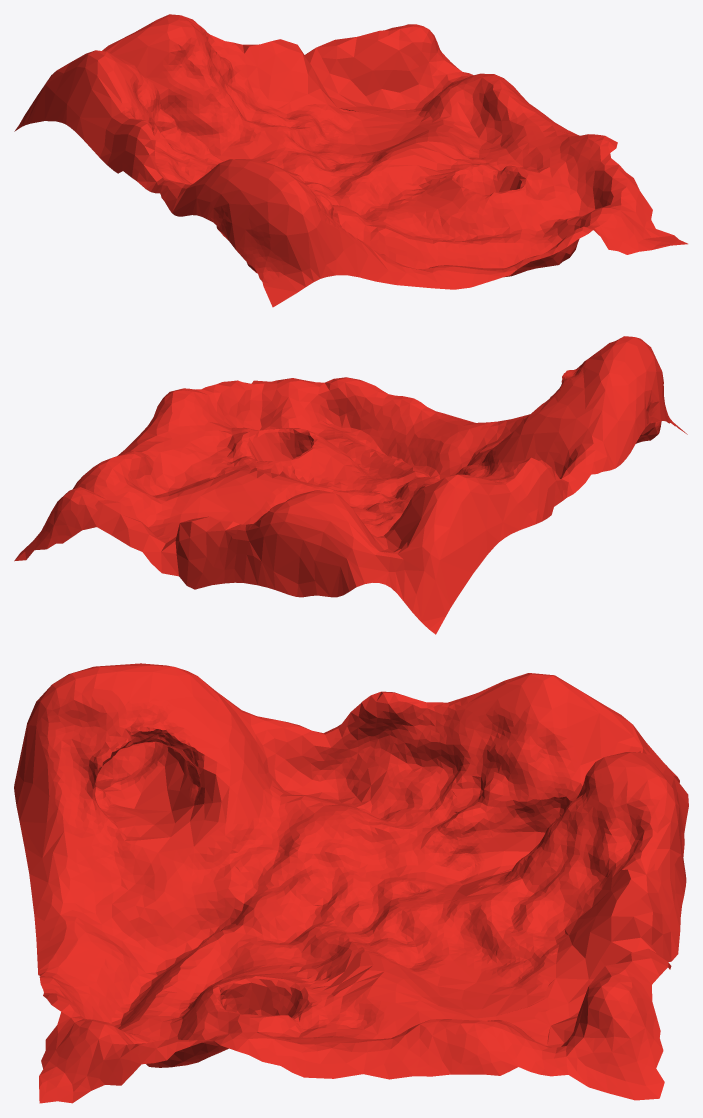
The model's file is terrain (1).fbx.
The picture shows the model from 3 angles, top to bottom: view 1: azimuth 30°, elevation 25°; view 2: azimuth 150°, elevation 25°; view 3: azimuth 270°, elevation 25°; orthographic projection. The views are drawn at different scales.
Parts seen in each view (by area): view 1: Plane; view 2: Plane; view 3: Plane.
Boxes of the visible parts, left/top/right/bottom form: Plane: left=14, top=14, right=687, bottom=307; Plane: left=14, top=336, right=687, bottom=634; Plane: left=14, top=663, right=688, bottom=1103.
Bounding box in the file's own units: 35644 × 12663 × 36464.
